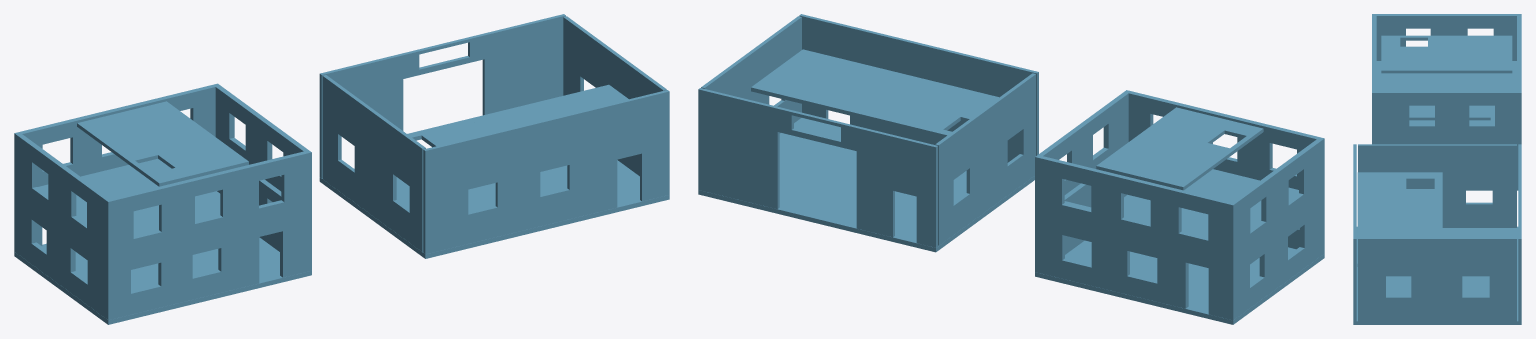
File: PROJECT_Z_Alderbrook_Optional_Simplified_Collision.glb
The picture shows the model from 3 angles, left to right: view 1: azimuth 30°, elevation 25°; view 2: azimuth 150°, elevation 25°; view 3: azimuth 270°, elevation 25°; orthographic projection. The views are drawn at different scales.
Visible parts, largest first — view 1: Barn_UCX_Front_Panel02, Barn_UCX_Rear_Panel00, Farmhouse_UCX_AtticDeck0, Barn_UCX_GroundSlab, Farmhouse_UCX_GroundSlab, Barn_UCX_Rear_Panel04, Barn_UCX_Rear_Panel02, Farmhouse_UCX_Rear_Panel00, Barn_UCX_Rear_Panel03, Barn_UCX_Left_Panel00, Barn_UCX_Left_Panel02, Barn_UCX_Rear_Panel01 (+46 smaller); view 2: Barn_UCX_GroundSlab, Barn_UCX_HayLoftDeck2, Barn_UCX_Front_Panel02, Farmhouse_UCX_AtticDeck0, Barn_UCX_Front_Panel01, Farmhouse_UCX_GroundSlab, Farmhouse_UCX_Front_Panel00, Farmhouse_UCX_Front_Panel01, Barn_UCX_Left_Panel00, Farmhouse_UCX_UpperDeck1, Barn_UCX_Left_Panel02, Barn_UCX_Front_Panel00 (+45 smaller); view 3: Barn_UCX_Right_Panel00, Barn_UCX_HayLoftDeck2, Farmhouse_UCX_AtticDeck0, Barn_UCX_Right_Panel02, Farmhouse_UCX_UpperDeck1, Barn_UCX_GroundSlab, Barn_UCX_Left_Panel02, Barn_UCX_Left_Panel00, Farmhouse_UCX_Right_Panel03, Barn_UCX_Right_Panel03, Barn_UCX_Right_Panel01, Barn_UCX_Left_Panel01 (+31 smaller).
Part boxes in pixels (x1,y1,x2,y2): Barn_UCX_Front_Panel02: [482, 14, 565, 115]; Barn_UCX_Rear_Panel00: [423, 178, 617, 254]; Farmhouse_UCX_AtticDeck0: [77, 101, 218, 164]; Barn_UCX_GroundSlab: [319, 160, 669, 258]; Farmhouse_UCX_GroundSlab: [14, 237, 311, 324]; Barn_UCX_Rear_Panel04: [567, 102, 617, 189]; Barn_UCX_Rear_Panel02: [423, 139, 468, 224]; Farmhouse_UCX_Rear_Panel00: [105, 262, 259, 320]; Barn_UCX_Rear_Panel03: [495, 121, 540, 207]; Barn_UCX_Left_Panel00: [322, 149, 423, 251]; Barn_UCX_Left_Panel02: [354, 98, 396, 200]; Barn_UCX_Rear_Panel01: [640, 90, 669, 201]; Barn_UCX_GroundSlab: [698, 118, 1034, 252]; Barn_UCX_HayLoftDeck2: [756, 49, 989, 130]; Barn_UCX_Front_Panel02: [698, 88, 779, 208]; Farmhouse_UCX_AtticDeck0: [1096, 128, 1234, 190]; Barn_UCX_Front_Panel01: [856, 126, 894, 237]; Farmhouse_UCX_GroundSlab: [1035, 240, 1324, 324]; Farmhouse_UCX_Front_Panel00: [1208, 197, 1235, 320]; Farmhouse_UCX_Front_Panel01: [1035, 254, 1188, 308]; Barn_UCX_Left_Panel00: [938, 146, 1035, 245]; Farmhouse_UCX_UpperDeck1: [1124, 169, 1298, 235]; Barn_UCX_Left_Panel02: [966, 94, 1007, 193]; Barn_UCX_Front_Panel00: [916, 141, 937, 247]; Barn_UCX_Right_Panel00: [1358, 296, 1516, 321]; Barn_UCX_HayLoftDeck2: [1357, 189, 1434, 266]; Farmhouse_UCX_AtticDeck0: [1428, 35, 1512, 73]; Barn_UCX_Right_Panel02: [1411, 237, 1462, 297]; Farmhouse_UCX_UpperDeck1: [1376, 61, 1490, 120]; Barn_UCX_GroundSlab: [1353, 226, 1521, 324]; Barn_UCX_Left_Panel02: [1404, 144, 1465, 204]; Barn_UCX_Left_Panel00: [1442, 202, 1516, 227]; Farmhouse_UCX_Right_Panel03: [1376, 91, 1409, 144]; Barn_UCX_Right_Panel03: [1358, 237, 1385, 297]; Barn_UCX_Right_Panel01: [1489, 237, 1516, 297]; Barn_UCX_Left_Panel01: [1492, 144, 1516, 204].
Size of the model in its own units: 27 by 5.79 by 9.
